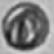correct: (2, 2, 50, 51)
